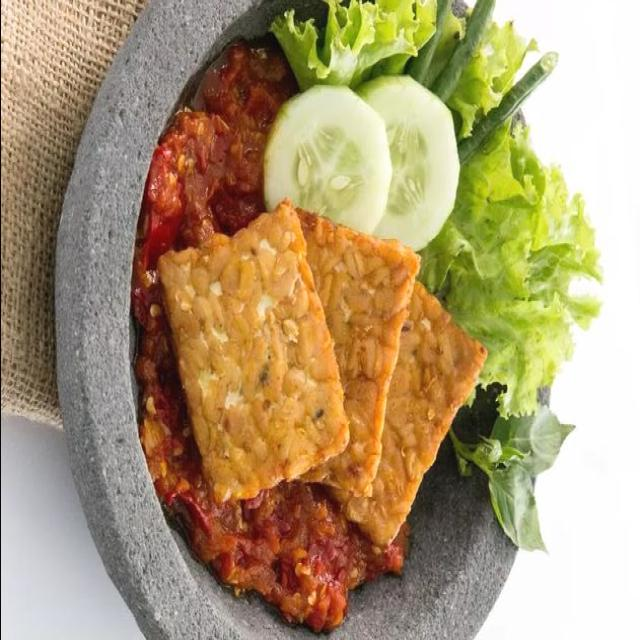tempe goreng: (157, 200, 348, 504)
